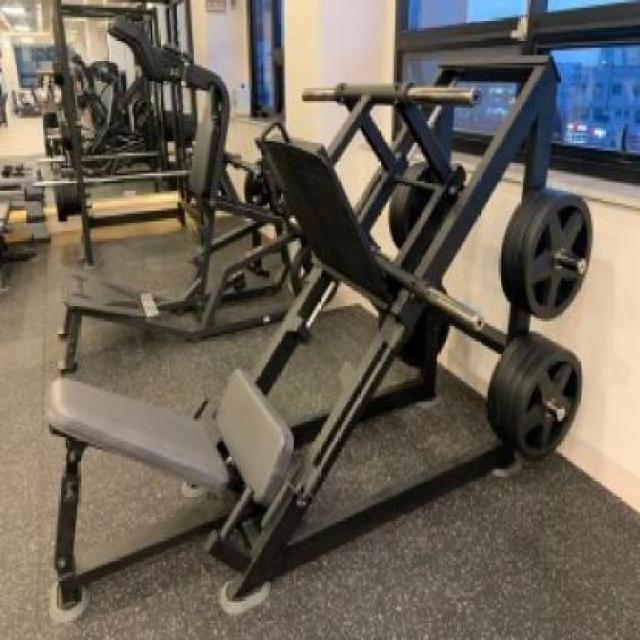leg press: (38, 24, 640, 638)
